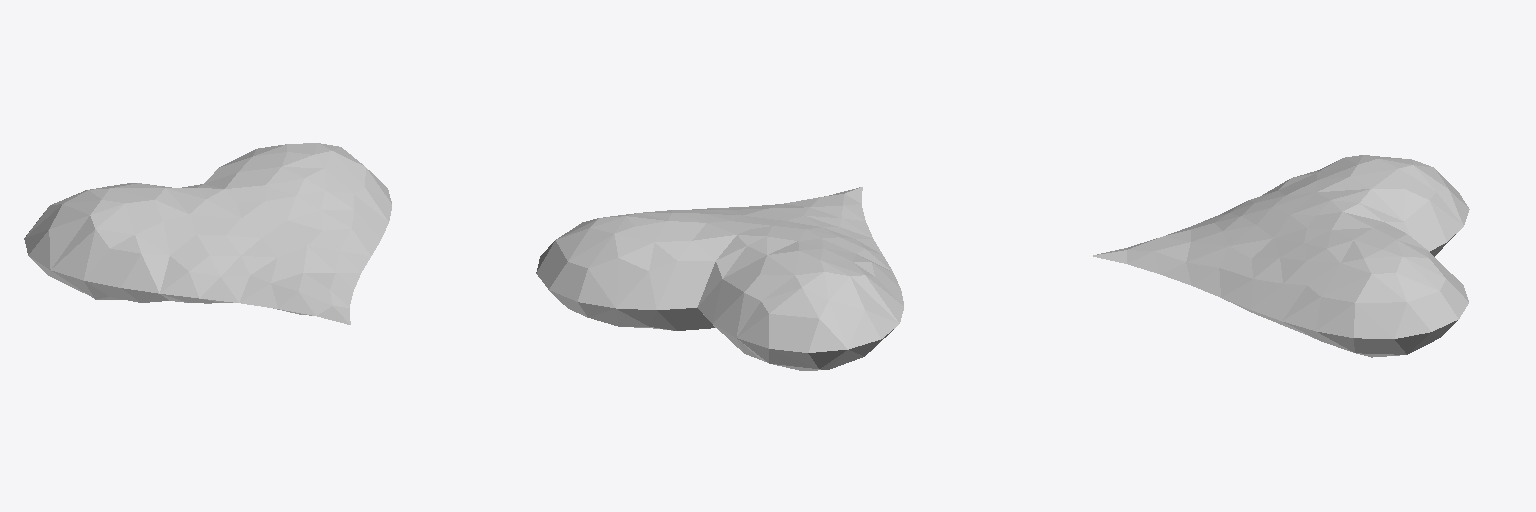
File: heart_lp.obj
3 renders of one model, left to right at view 1: azimuth 30°, elevation 25°; view 2: azimuth 150°, elevation 25°; view 3: azimuth 270°, elevation 25°, orthographic.
Visible parts, largest first — view 1: Line002; view 2: Line002; view 3: Line002.
Boxes of the visible parts, <box> form: Line002: <box>24,143,391,324</box>; Line002: <box>536,187,903,370</box>; Line002: <box>1093,155,1469,357</box>.
Bounding box in the file's own units: 36.32 × 9.53 × 34.98.